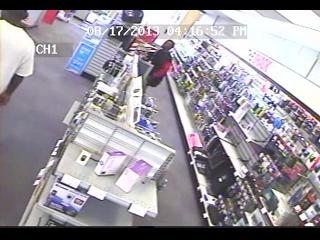Normal: (0, 10, 36, 138), (144, 40, 174, 88)
